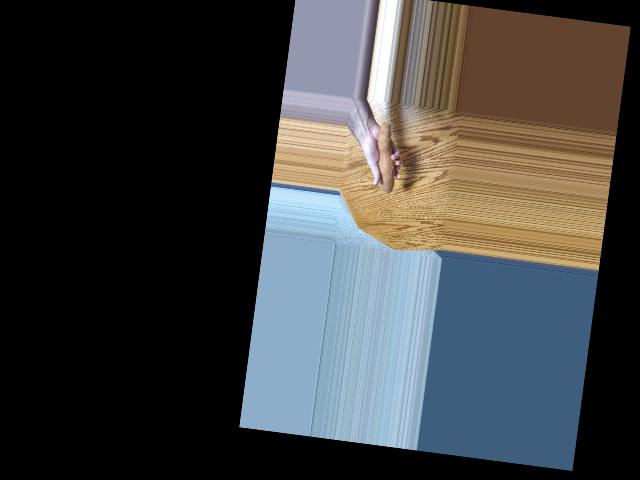sweet_potato: (364, 114, 403, 195)
